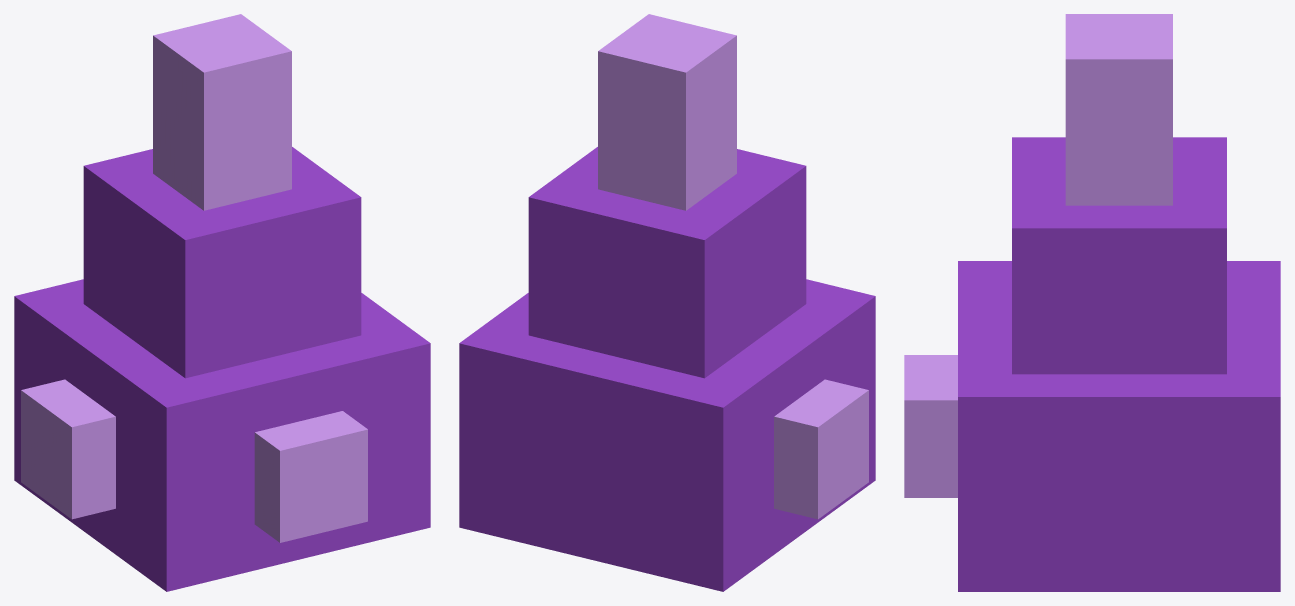
Rendered from item_gem.glb.
3 views of the same model, side by side, from view 1: azimuth 30°, elevation 25°; view 2: azimuth 150°, elevation 25°; view 3: azimuth 270°, elevation 25° (orthographic). The views are drawn at different scales.
Parts seen in each view (by area): view 1: Base mesh, Mid mesh, Facet mesh, Tip mesh; view 2: Base mesh, Mid mesh, Tip mesh, Facet mesh; view 3: Base mesh, Mid mesh, Tip mesh, Facet mesh.
Part boxes in pixels (x1,y1,x2,y2): Base mesh: (14, 279, 430, 591); Mid mesh: (83, 147, 361, 378); Facet mesh: (21, 379, 367, 542); Tip mesh: (153, 14, 291, 210); Base mesh: (459, 279, 875, 591); Mid mesh: (528, 147, 806, 378); Tip mesh: (598, 14, 736, 210); Facet mesh: (774, 379, 868, 519); Base mesh: (958, 261, 1280, 591); Mid mesh: (1012, 137, 1226, 374); Tip mesh: (1065, 14, 1172, 205); Facet mesh: (904, 355, 957, 497).
Bounding box in the file's own units: 7 × 10 × 7.
Materials: 1 (1 with a texture image).
